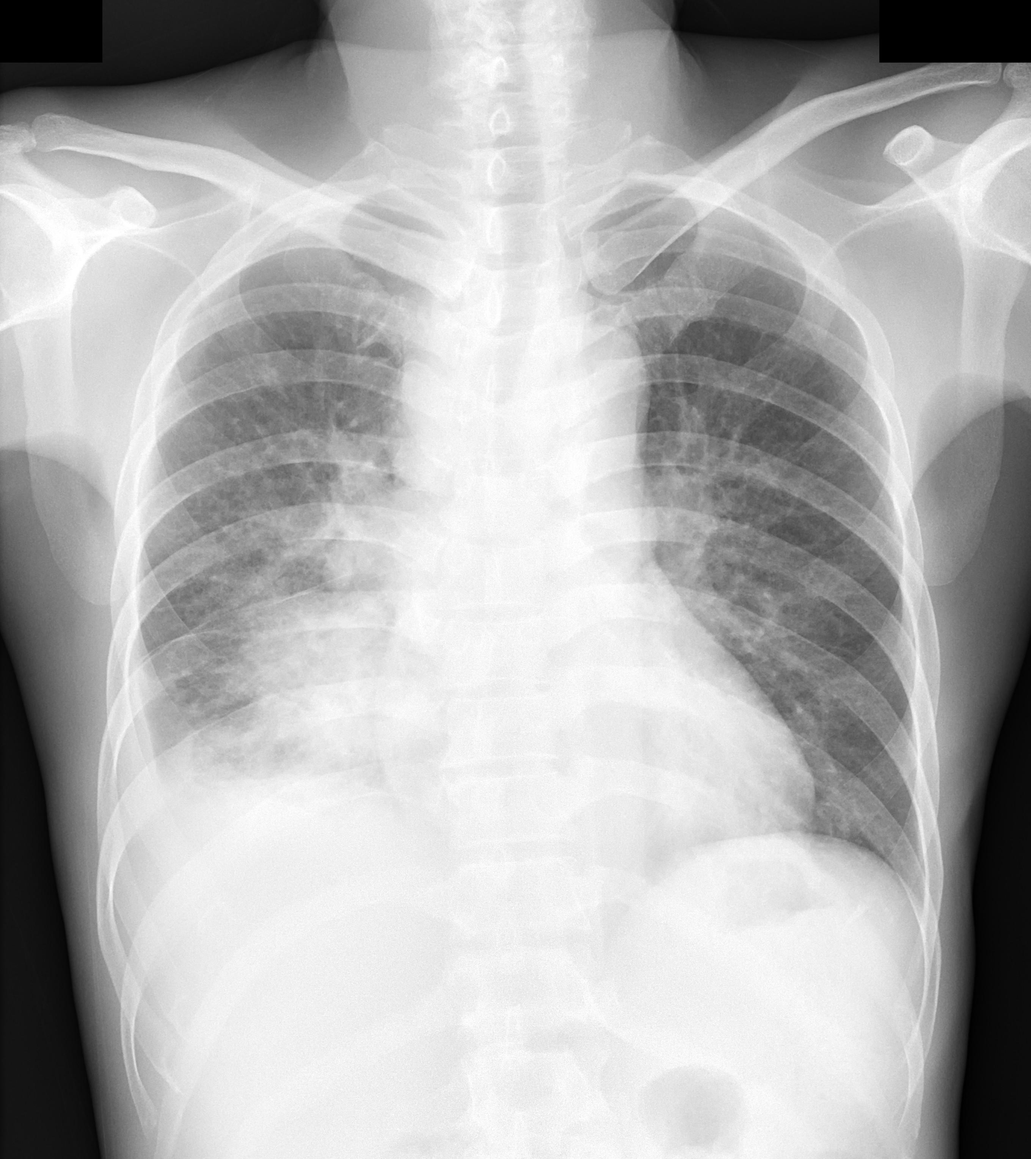Pulmonary fibrosis: (140, 634, 241, 760)
